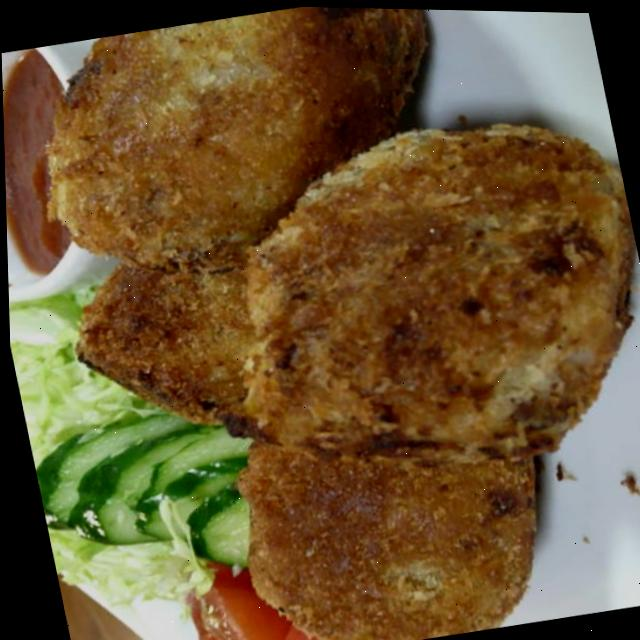炸货点心: (6, 0, 640, 640)
